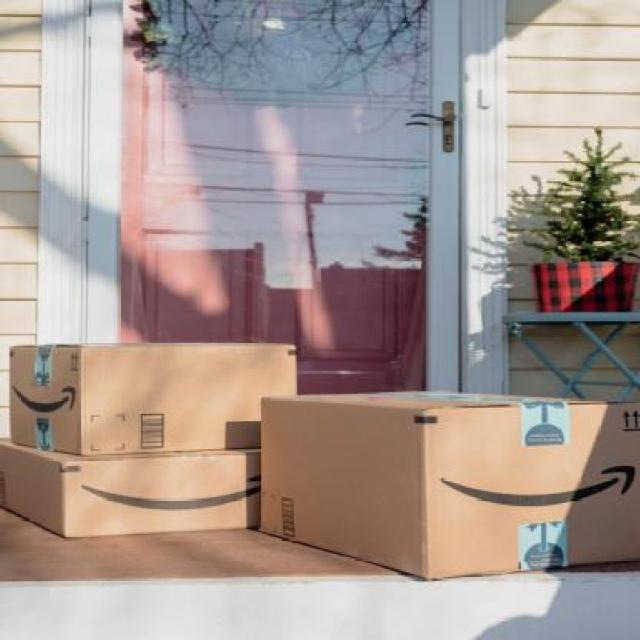cardboxes: (255, 388, 639, 586), (9, 342, 302, 450), (0, 438, 265, 538)
